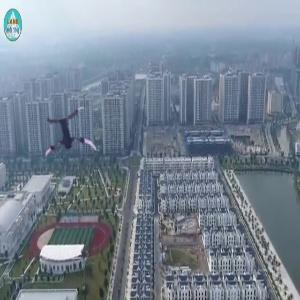drone: (39, 110, 99, 170)
